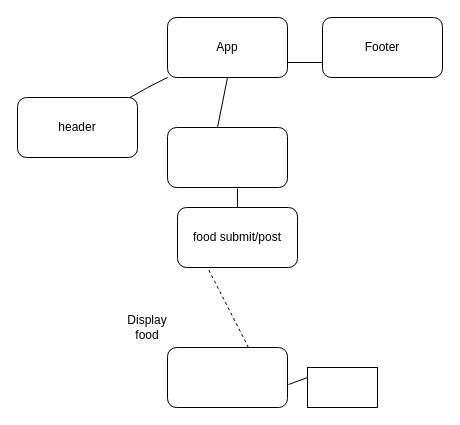
Image size: 460x425. Some labels were removed from this diagram. Each missing label, with the box of its shape:
food/get: (166, 126, 288, 188)
foods.post(food) => <Food />: (166, 346, 288, 408)
